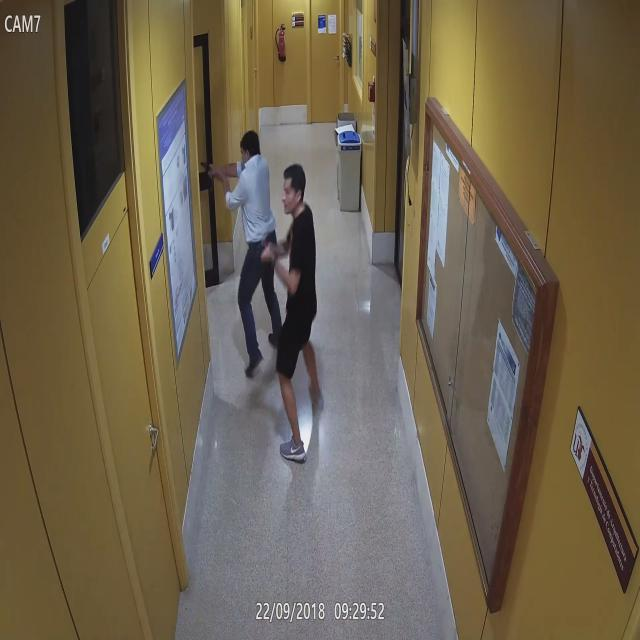Gun: (249, 238, 274, 260), (198, 157, 221, 180)
